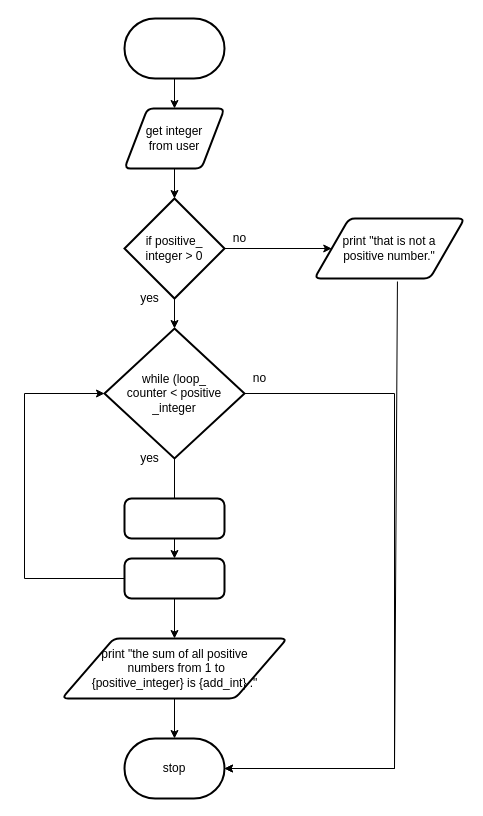
This 483x816 diagram has some shape labels left out. Each missing label, with the centre of its shape:
"add_int = add_int + loop_counter" goes at point (174, 578).
"loop_counter = loop_counter + 1" goes at point (174, 518).
"start" goes at point (174, 48).
